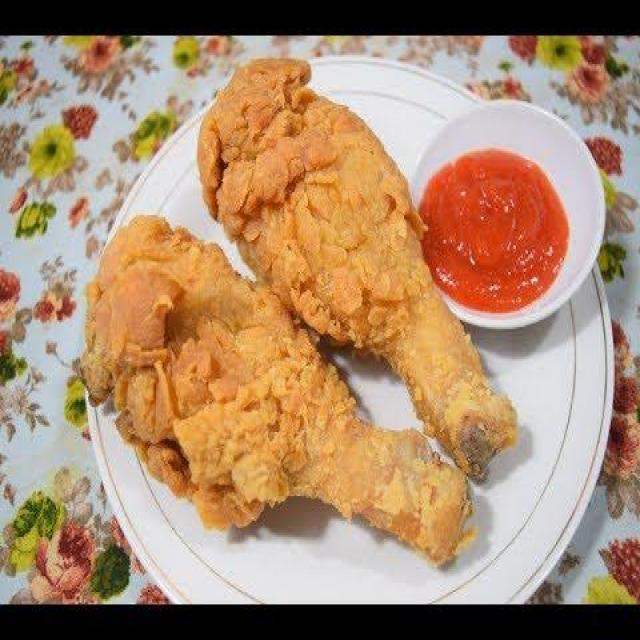Frango: (85, 208, 472, 572), (195, 55, 522, 485)
